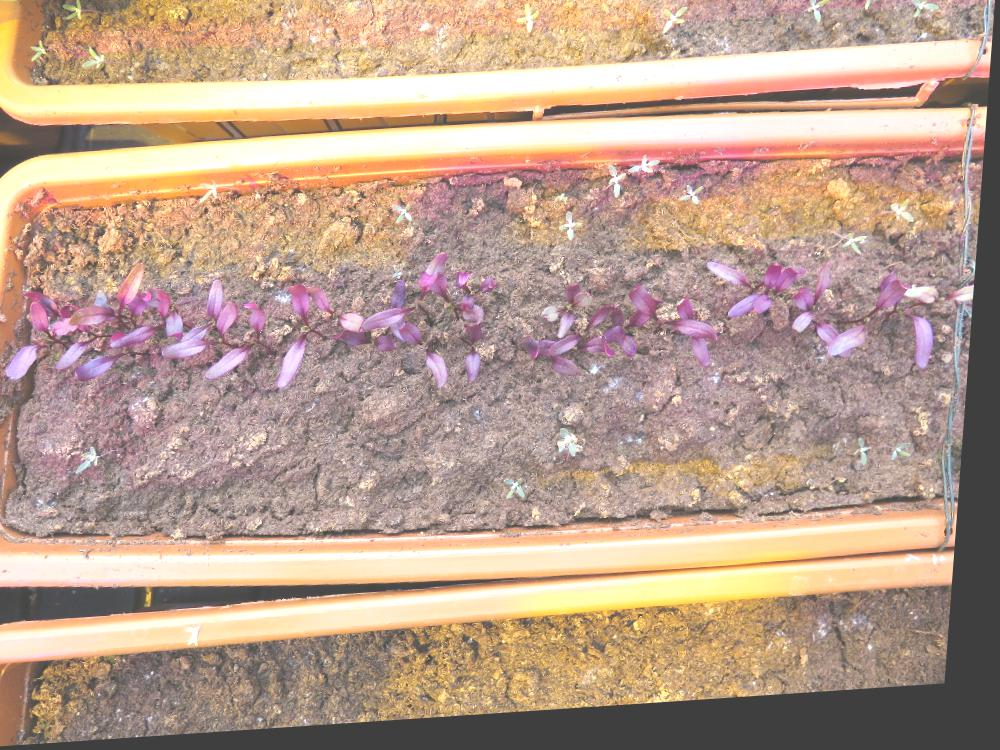weed: (889, 206, 920, 238), (844, 239, 873, 269), (562, 432, 586, 467), (560, 216, 586, 248), (81, 443, 107, 475), (630, 159, 664, 183), (607, 170, 629, 207), (680, 189, 707, 217), (392, 204, 417, 231), (509, 482, 533, 509), (198, 179, 221, 207), (858, 446, 878, 478), (897, 451, 920, 474), (555, 196, 571, 215)
